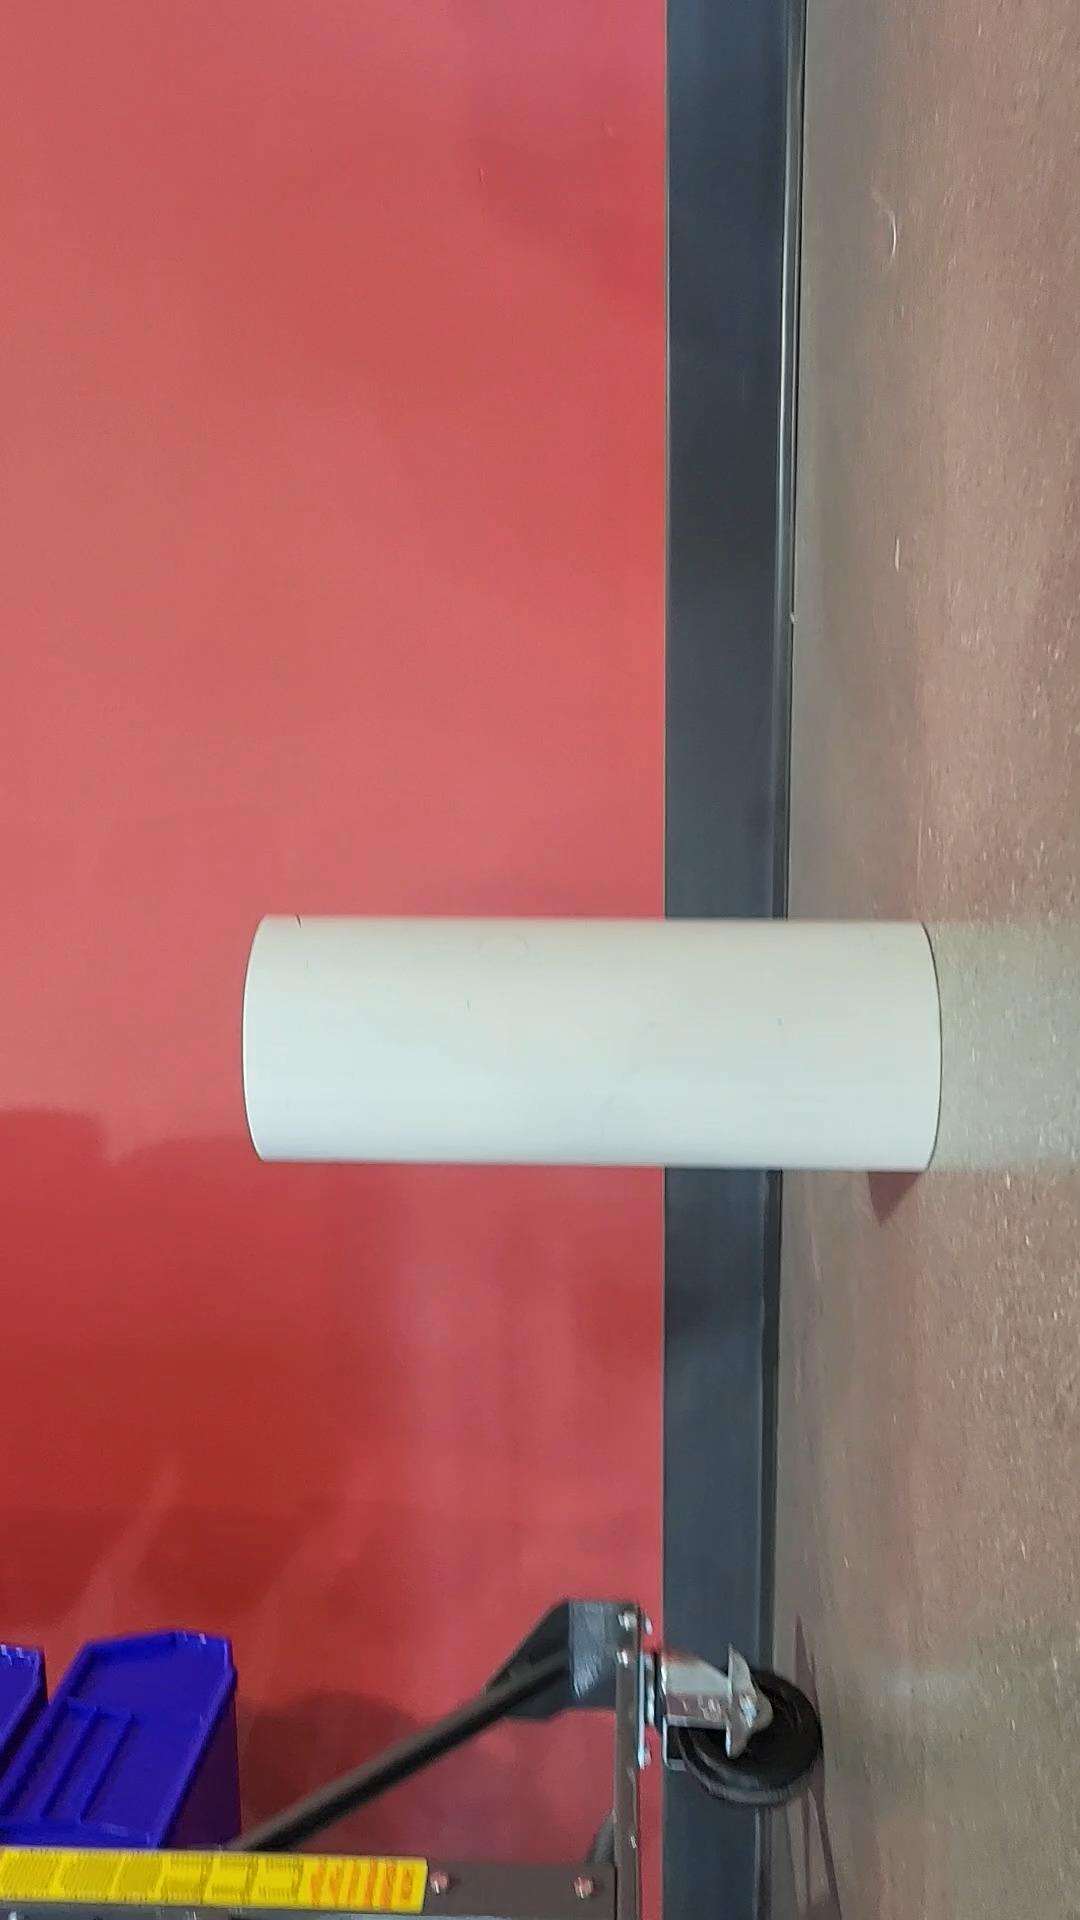coral: (245, 915, 948, 1172)
